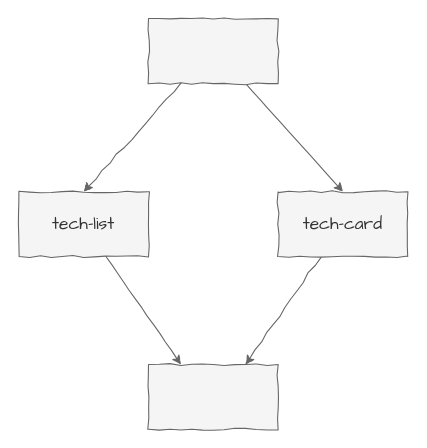
Some shapes in this 427 by 448 pixel diagram are drawn without their labels. The centre of each missing label's shape, as x and y in pixels:
"api" goes at point 212,396.
"app-shell" goes at point 212,51.
